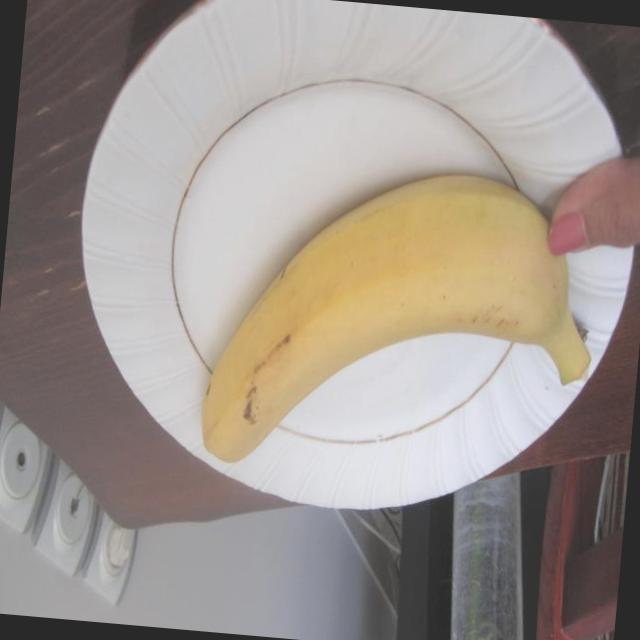Banana: (192, 145, 612, 498)
Finger: (529, 144, 640, 261)
